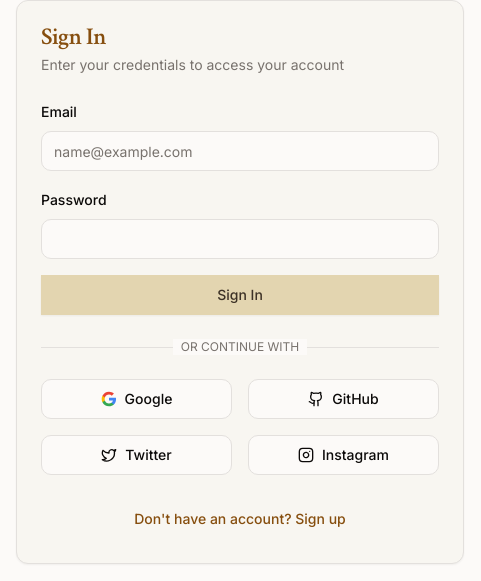
it: AuthForm › switches to sign up form
Click the button "Don't have an account? Sign up": (240,519) [41,499,439,539]
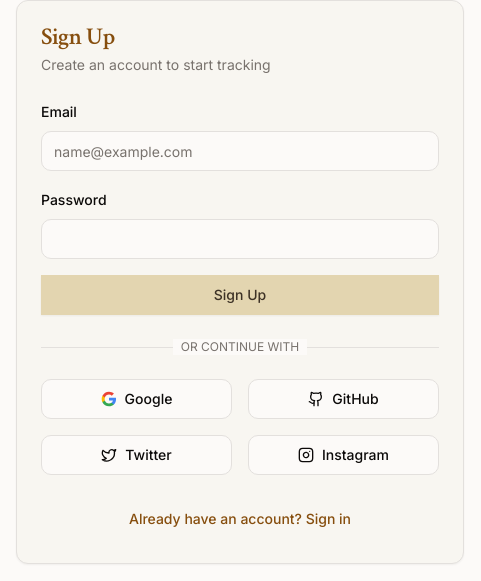
Check: the text "Create an account to start tracking" is shown, box [41,56,271,73]
Check: the button "Sign Up" is shown, box [41,275,439,315]
